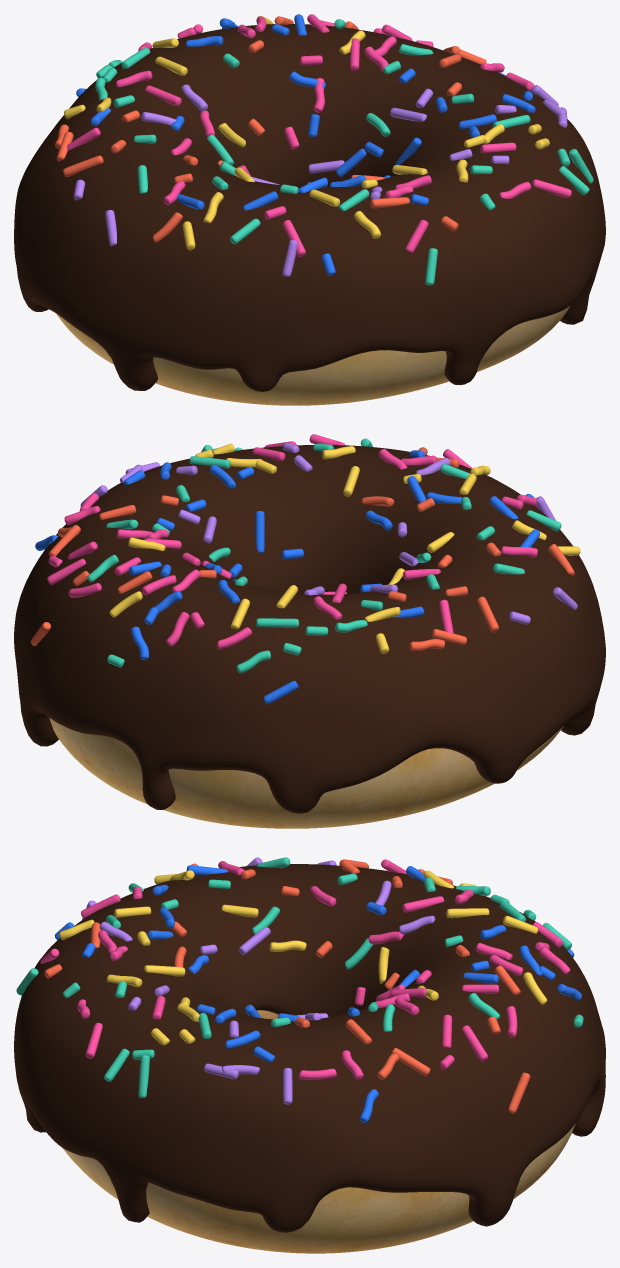
Rendered from donut.glb.
3 renders of one model, top to bottom at view 1: azimuth 30°, elevation 25°; view 2: azimuth 150°, elevation 25°; view 3: azimuth 270°, elevation 25°, orthographic.
Parts seen in each view (by area): view 1: Web_Icing, Web_Sprinkles, Web_Doughnut; view 2: Web_Icing, Web_Sprinkles, Web_Doughnut; view 3: Web_Icing, Web_Sprinkles, Web_Doughnut.
Boxes of the visible parts, x1,y1,x2,y2 form: Web_Icing: (14,24,605,391); Web_Sprinkles: (55,14,593,285); Web_Doughnut: (57,305,570,405); Web_Icing: (14,445,605,813); Web_Sprinkles: (31,434,580,704); Web_Doughnut: (49,718,563,828); Web_Icing: (14,864,605,1232); Web_Sprinkles: (16,857,583,1122); Web_Doughnut: (62,1010,575,1253).
Bounding box in the file's own units: 0.3657 × 0.1585 × 0.3597.
8 materials, 2 textured.
